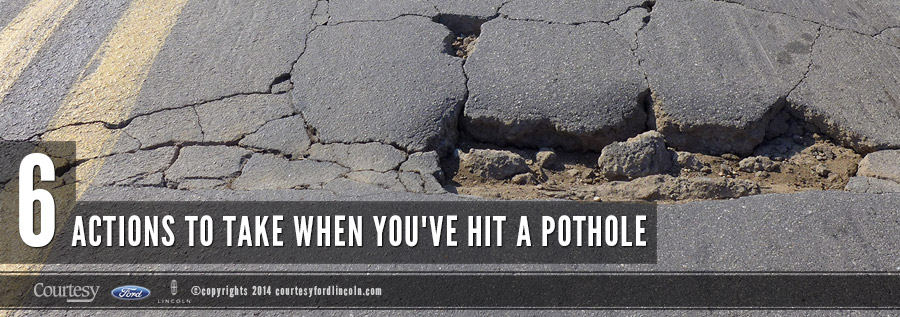pothole: (402, 88, 850, 208)
